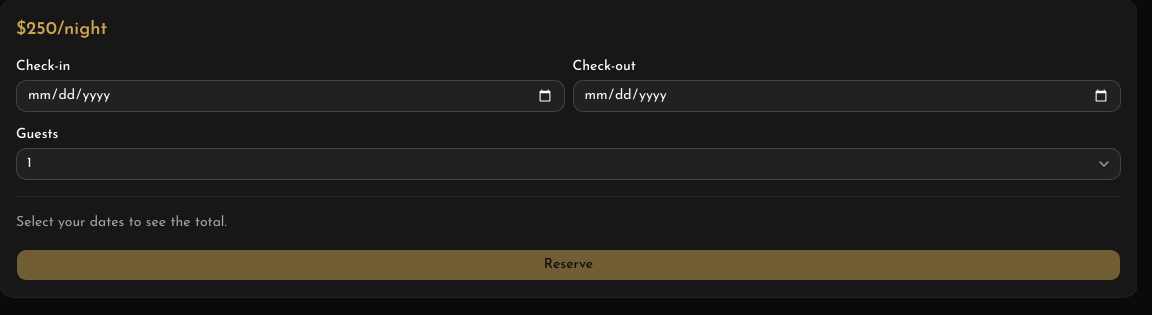
Test: CabinBookingPanel › only offers guest options up to the cabin capacity
Click the dropdown named "Guests".
click(29, 164)  # box x1=16 y1=148 x2=1121 y2=180
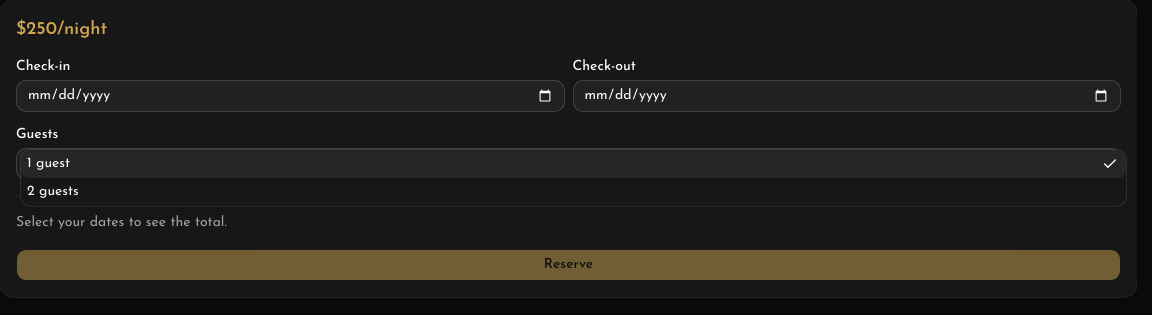
Check: the option "2 guests" is shown, box x1=27 y1=184 x2=79 y2=199
